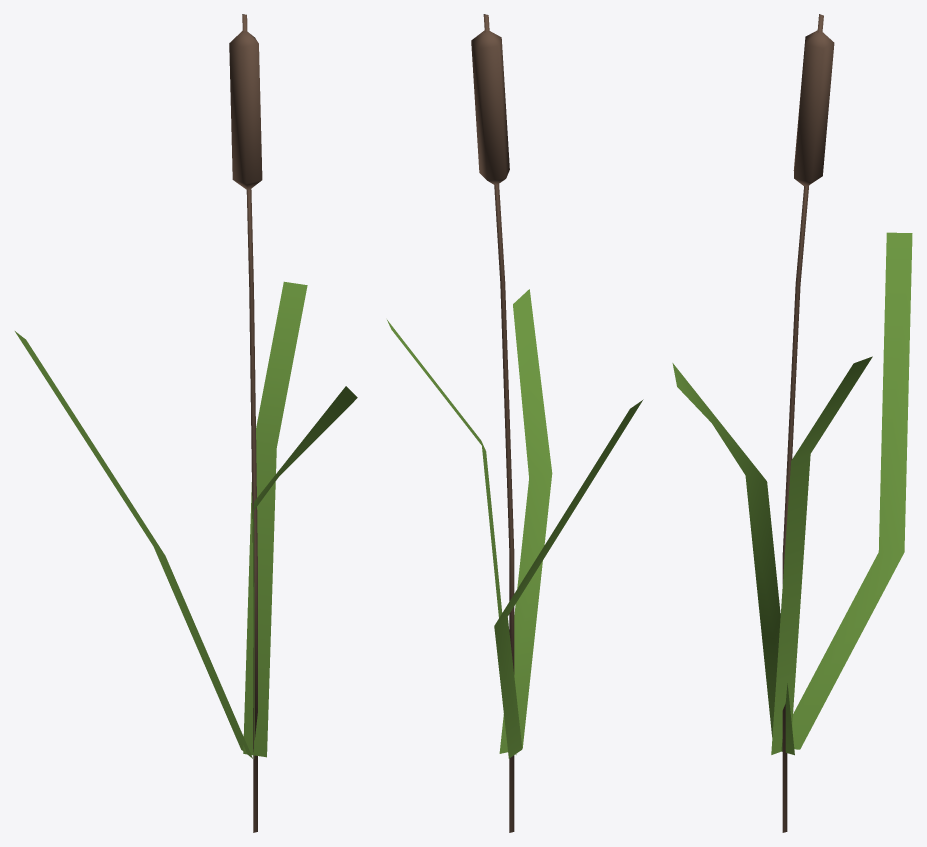
Rendered from Reed_4.fbx.
The picture shows the model from 3 angles, left to right: view 1: azimuth 30°, elevation 25°; view 2: azimuth 150°, elevation 25°; view 3: azimuth 270°, elevation 25°; orthographic projection. The views are drawn at different scales.
Parts seen in each view (by area): view 1: Reed 4; view 2: Reed 4; view 3: Reed 4.
Boxes of the visible parts, x1,y1,x2,y2 form: Reed 4: (15,14,357,832); Reed 4: (387,14,643,832); Reed 4: (672,14,912,832).
Bounding box in the file's own units: 76.82 × 222 × 58.89.
